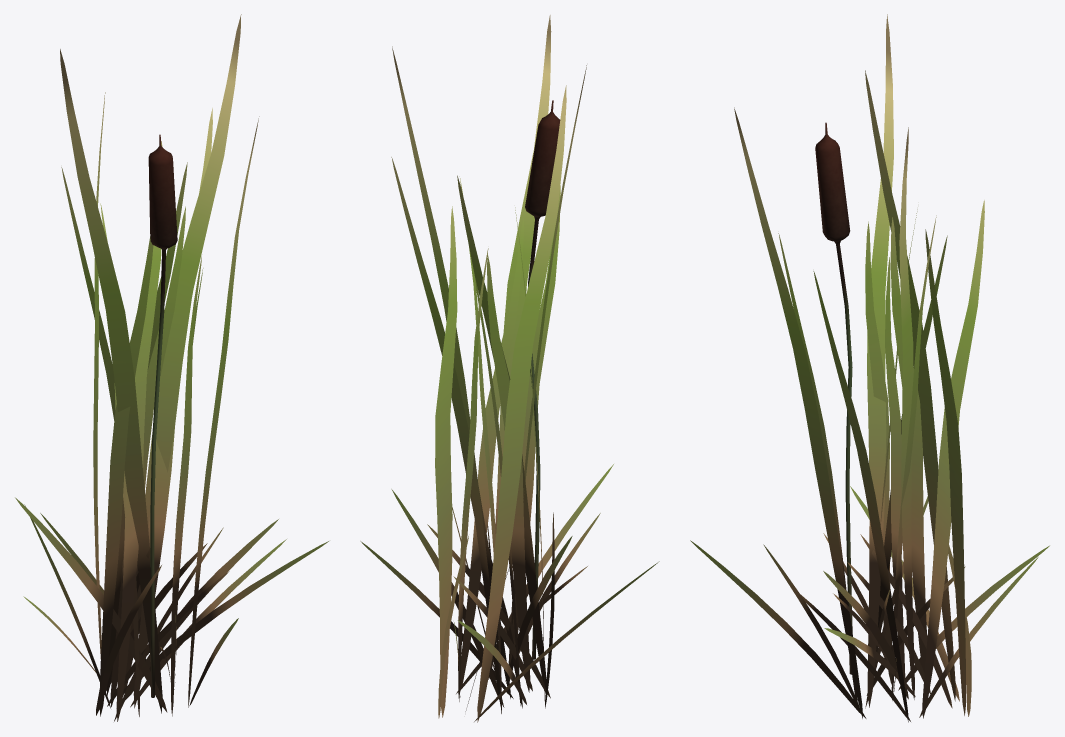
The model's file is tatarak-4.obj.
3 views of the same model, side by side, from view 1: azimuth 30°, elevation 25°; view 2: azimuth 150°, elevation 25°; view 3: azimuth 270°, elevation 25° (orthographic). The views are drawn at different scales.
Visible parts, largest first — view 1: tatarak4; view 2: tatarak4; view 3: tatarak4.
Boxes of the visible parts, <box> form: tatarak4: <box>15,14,328,721</box>; tatarak4: <box>360,15,659,722</box>; tatarak4: <box>690,14,1049,722</box>.
Bounding box in the file's own units: 0.521 × 1.16 × 0.5808.
1 material, 1 textured.
